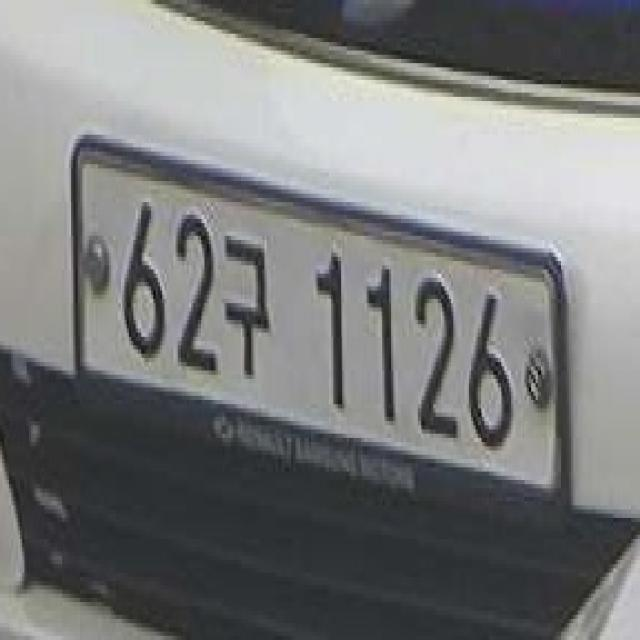1: (308, 237, 354, 422), (360, 266, 403, 430)
2: (412, 265, 462, 455), (171, 206, 220, 382)
6: (115, 194, 167, 366), (468, 282, 516, 458)
gu: (224, 222, 274, 394)
license_plate: (61, 121, 587, 539)
